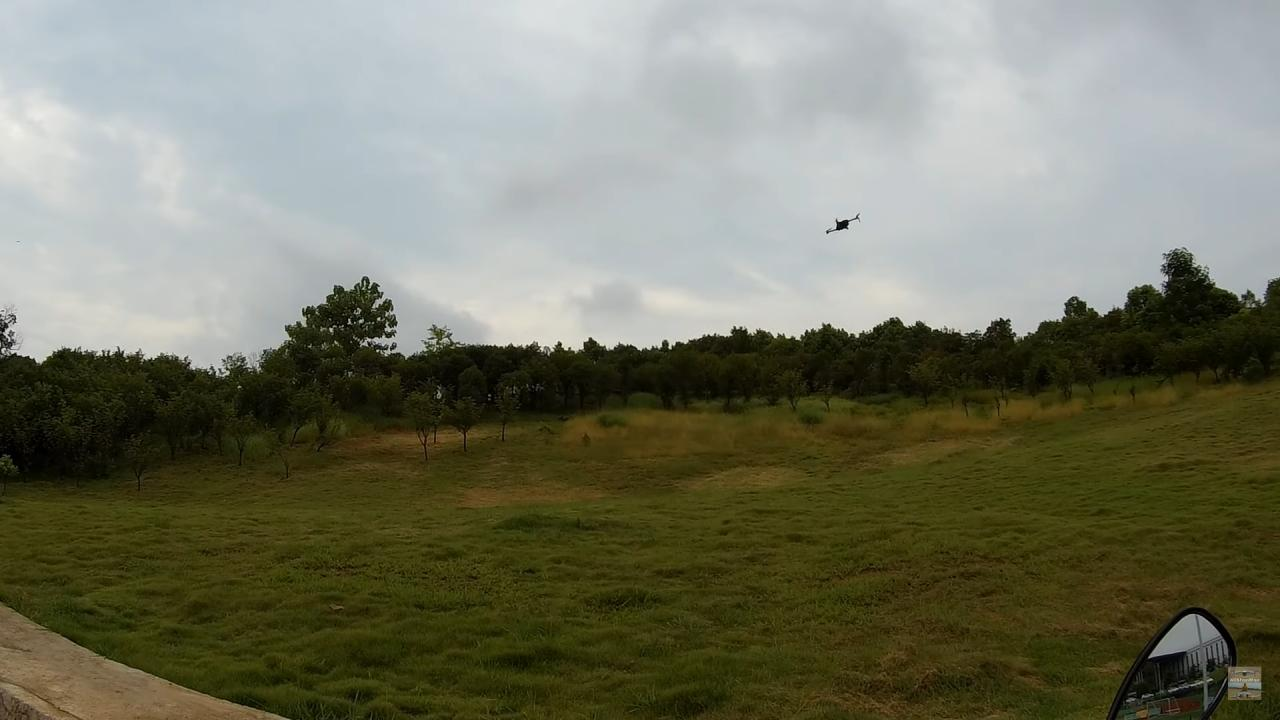Drone: (811, 204, 873, 244)
